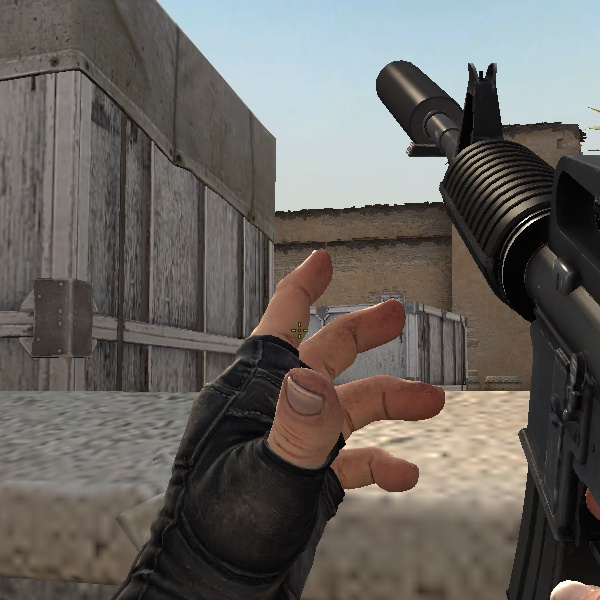t_body: (0, 0, 587, 600)
